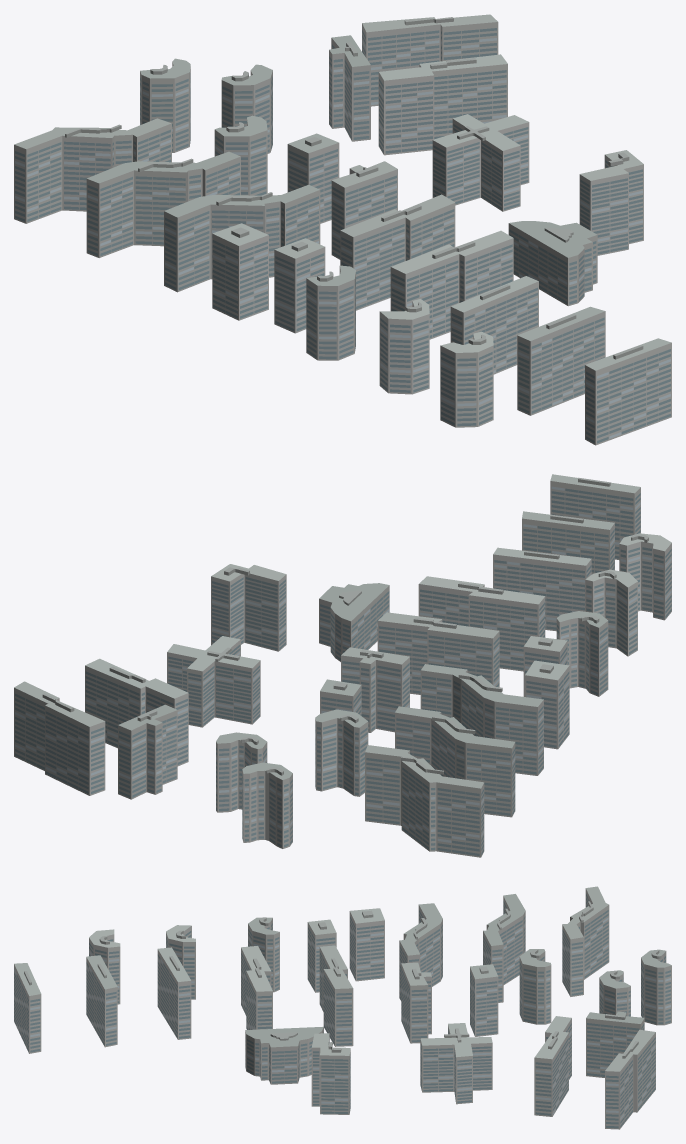
File: apt-a13982704.glb
3 renders of one model, top to bottom at view 1: azimuth 30°, elevation 25°; view 2: azimuth 150°, elevation 25°; view 3: azimuth 270°, elevation 25°, orthographic. The views are drawn at different scales.
Parts seen in each view (by area): view 1: apt-a13982704; view 2: apt-a13982704; view 3: apt-a13982704.
Boxes of the visible parts, x1,y1,x2,y2 form: apt-a13982704: (14,14,671,445); apt-a13982704: (14,474,671,857); apt-a13982704: (14,886,671,1129).
Size of the model in its own units: 314 by 49 by 472.
